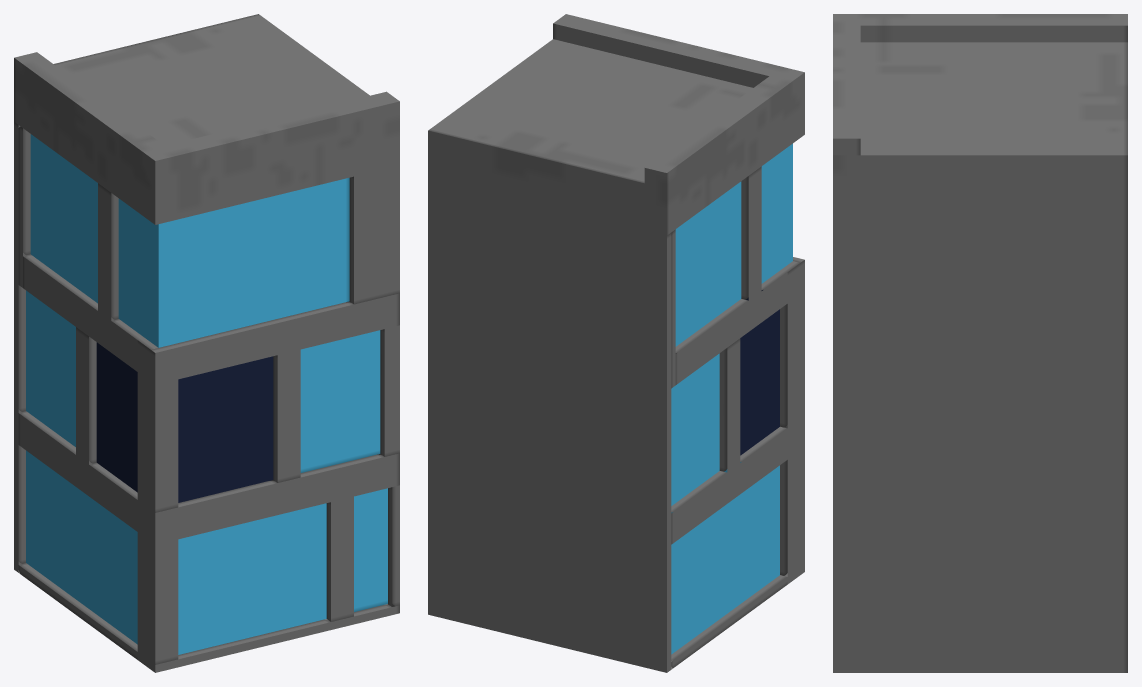
The model's file is B_M_Góra_z_przodem_i_lw.dae.
The picture shows the model from 3 angles, left to right: view 1: azimuth 30°, elevation 25°; view 2: azimuth 150°, elevation 25°; view 3: azimuth 270°, elevation 25°; orthographic projection. The views are drawn at different scales.
Parts seen in each view (by area): view 1: Content; view 2: Content; view 3: Content.
Part boxes in pixels (x1,y1,x2,y2): Content: [14, 14, 399, 672]; Content: [428, 14, 804, 672]; Content: [833, 14, 1127, 672].
Size of the model in its own units: 32 by 64 by 32.
Materials: 1 (1 with a texture image).
